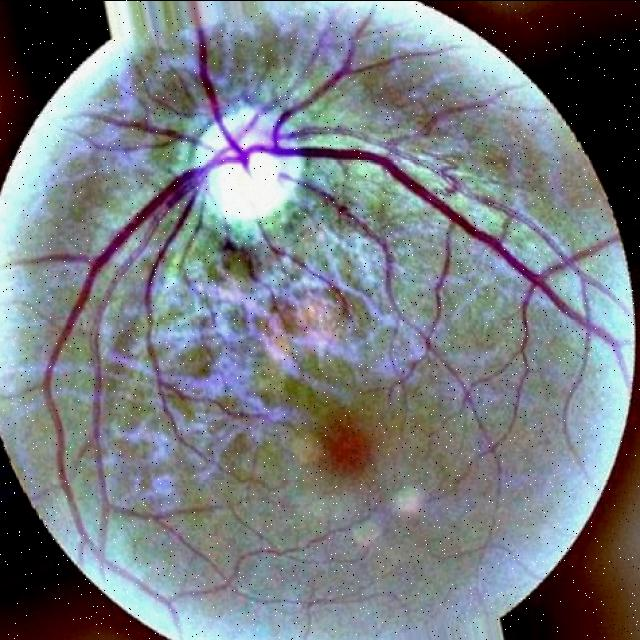Macula: (316, 409, 372, 477)
Nerves: (36, 0, 631, 514), (159, 44, 164, 50)
Optic Disk: (194, 105, 304, 223)
